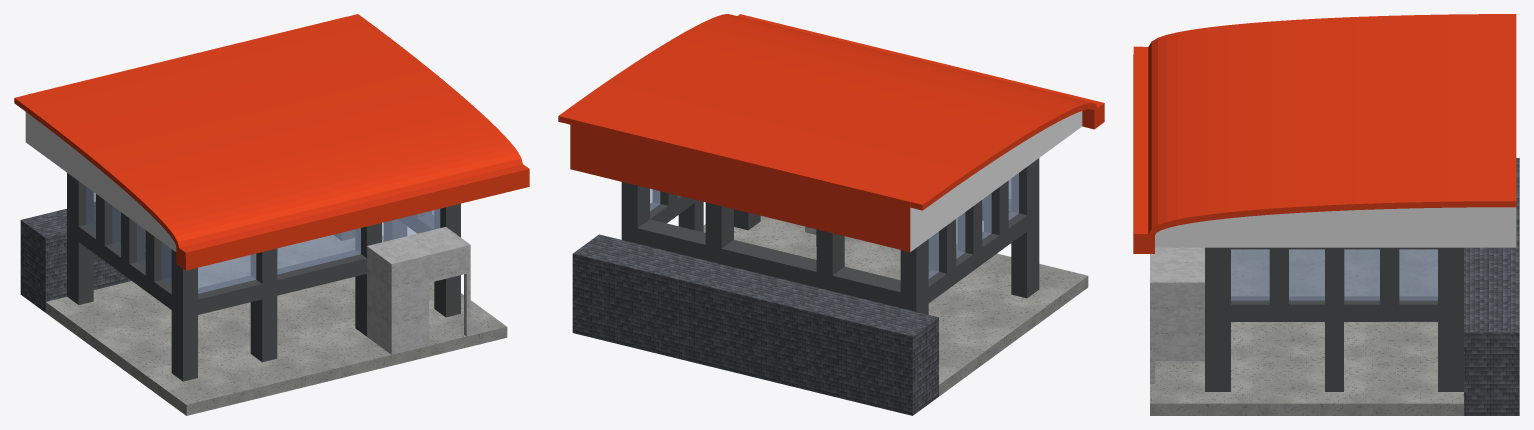
Rendered from Multipurpose_Building.fbx.
3 views of the same model, side by side, from view 1: azimuth 30°, elevation 25°; view 2: azimuth 150°, elevation 25°; view 3: azimuth 270°, elevation 25° (orthographic). The views are drawn at different scales.
Parts seen in each view (by area): view 1: Cube.001, Multipurpose_Building; view 2: Cube.001, Multipurpose_Building; view 3: Cube.001, Multipurpose_Building.
Boxes of the visible parts, box(x1,y1,x2,y2) form: Cube.001: box(14, 14, 529, 270); Multipurpose_Building: box(20, 173, 507, 415); Cube.001: box(558, 14, 1104, 252); Multipurpose_Building: box(572, 158, 1088, 415); Cube.001: box(1133, 14, 1516, 253); Multipurpose_Building: box(1150, 158, 1519, 415).
Size of the model in its own units: 3430 by 1906 by 2991.
Materials: 8 (3 with a texture image).
